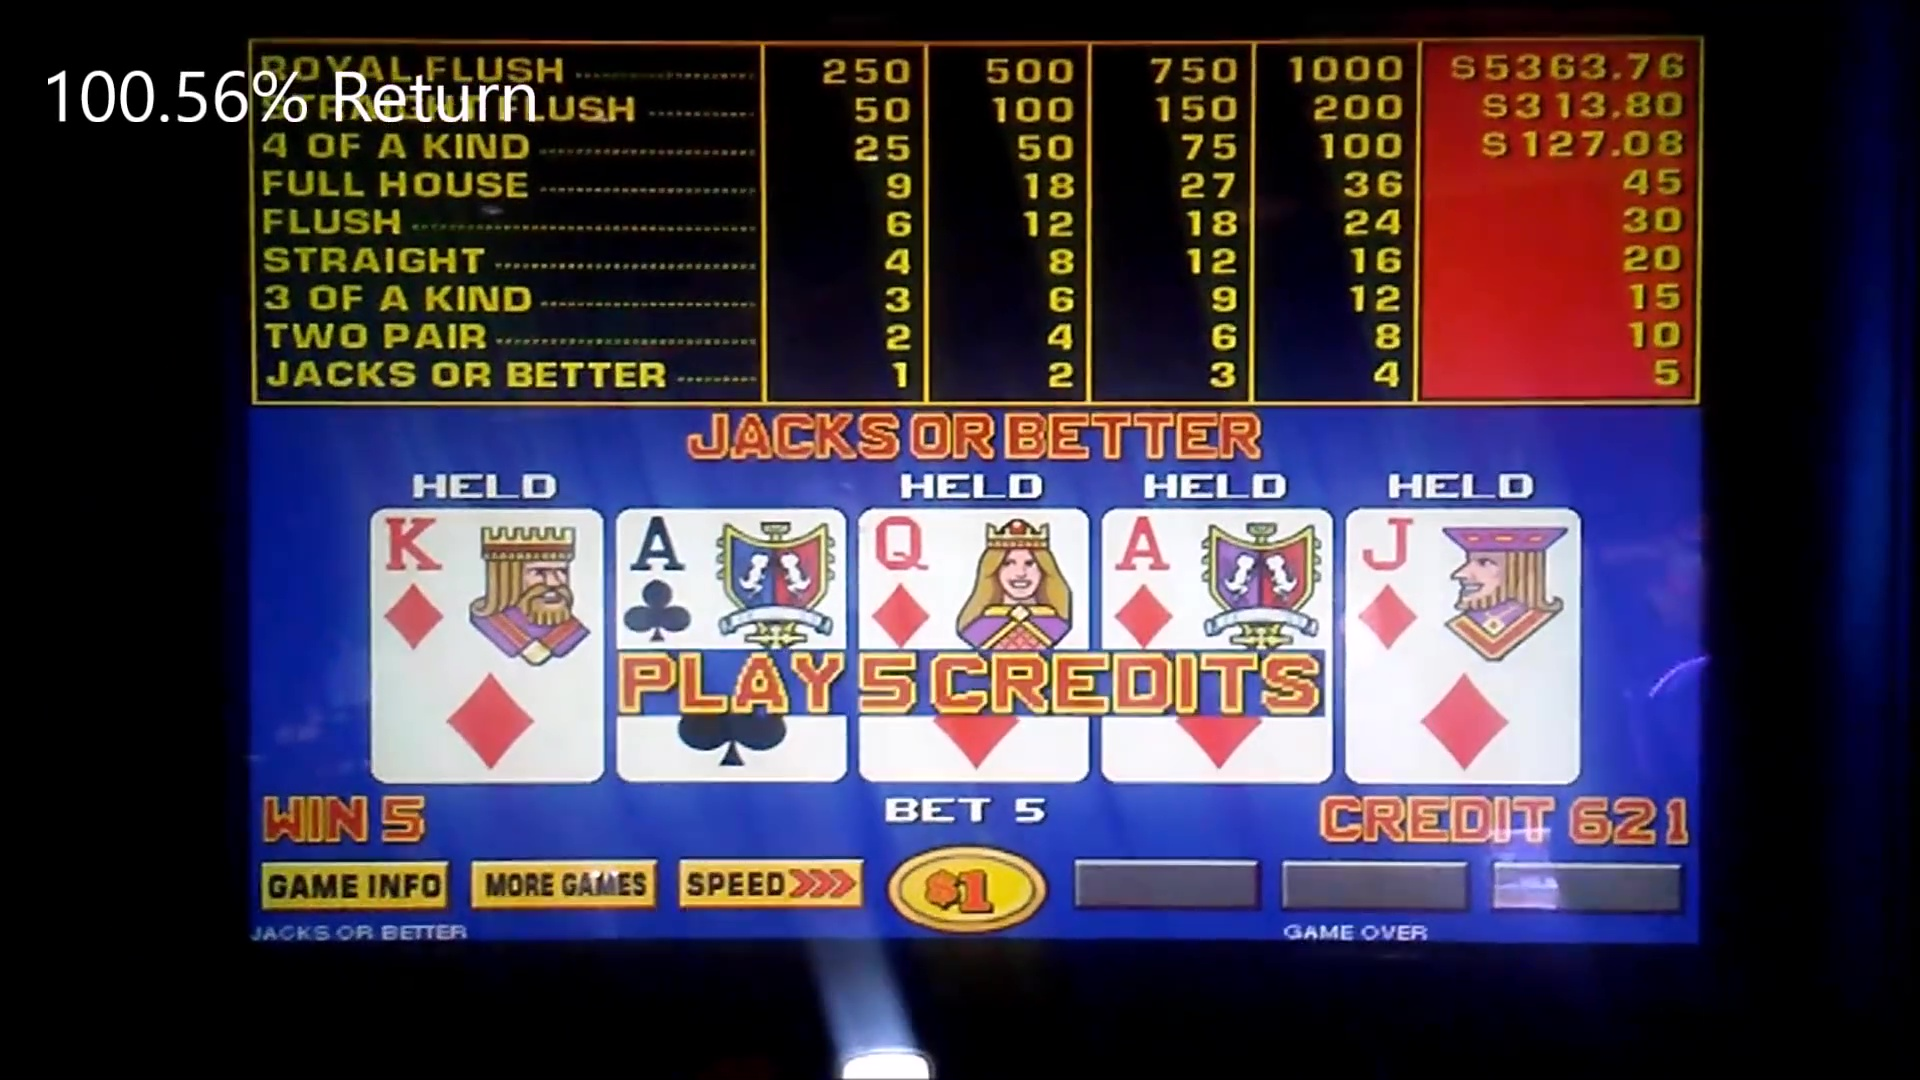AC: (622, 513, 835, 644)
AD: (1108, 502, 1331, 644)
JD: (1346, 509, 1580, 647)
KD: (375, 513, 592, 650)
QD: (862, 512, 1087, 650)
